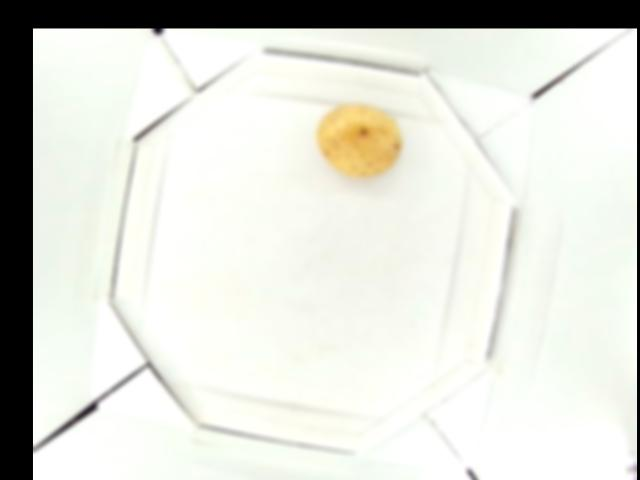Potato: (320, 103, 400, 172)
